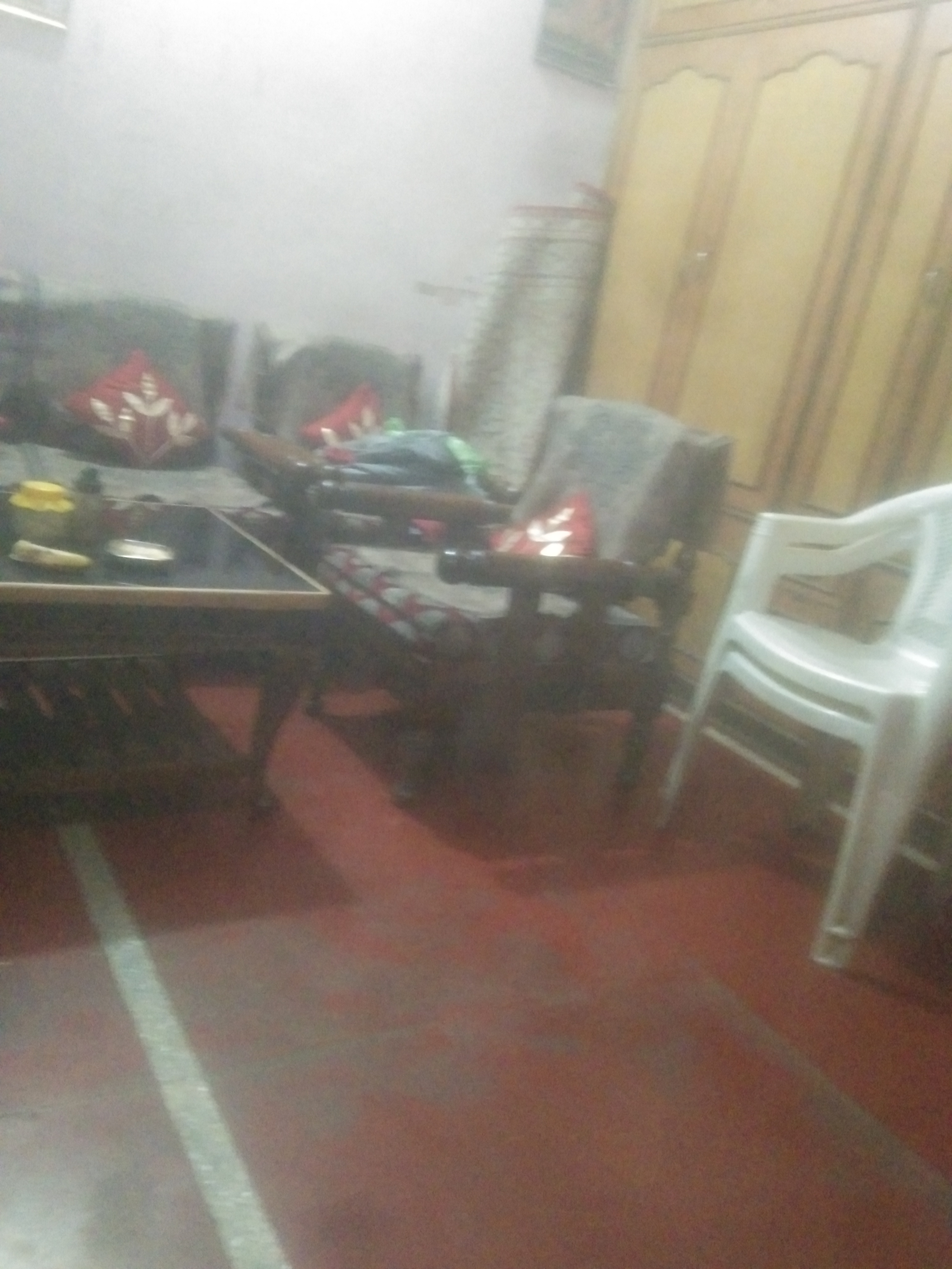sofa: (305, 397, 737, 817), (0, 269, 284, 542), (227, 319, 421, 554)
table: (0, 505, 328, 808)
